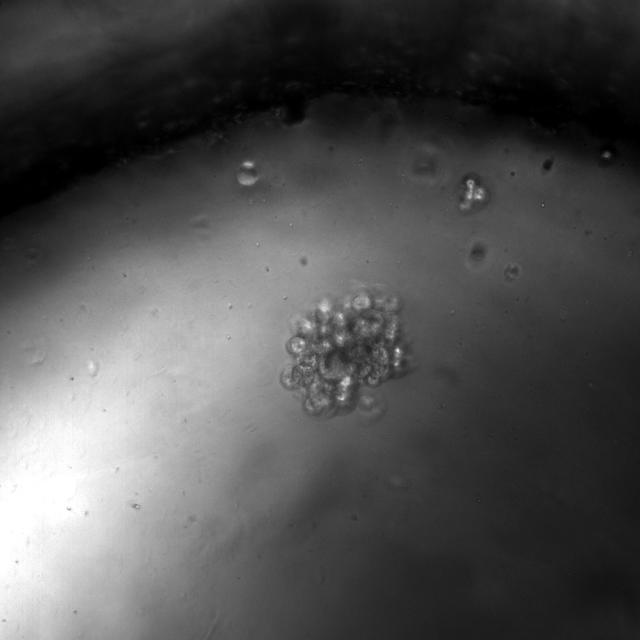organoid: (278, 287, 414, 425), (458, 173, 489, 212)
